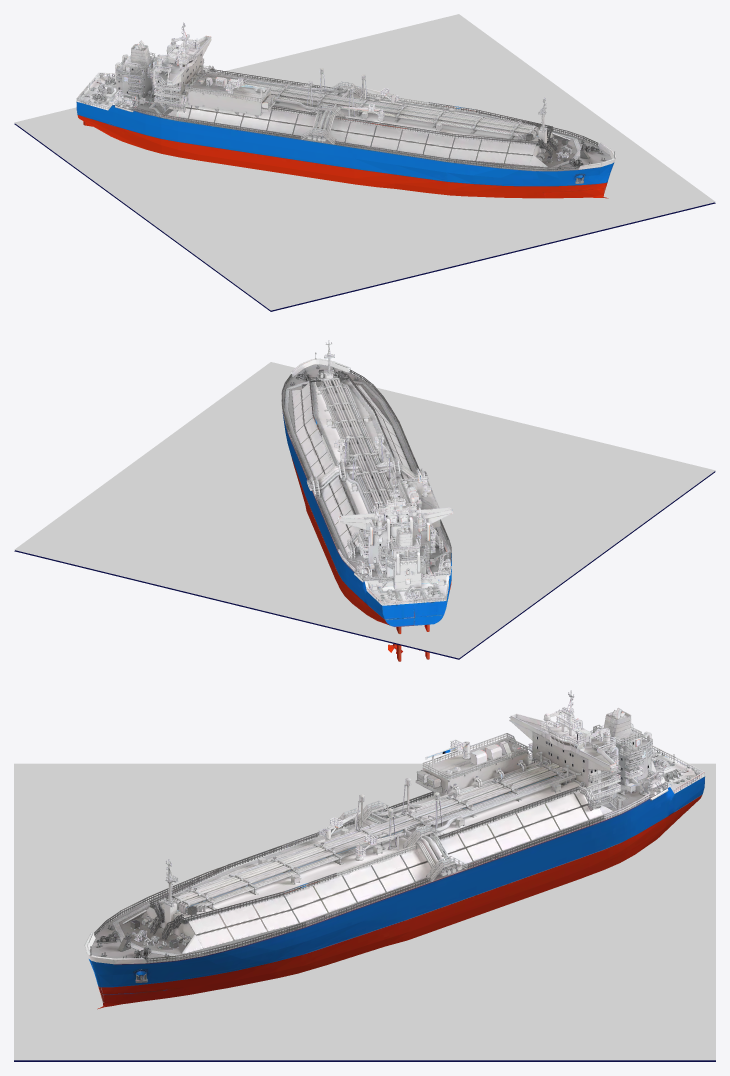
The model's file is ship-ocean-wake.glb.
3 renders of one model, top to bottom at view 1: azimuth 30°, elevation 25°; view 2: azimuth 150°, elevation 25°; view 3: azimuth 270°, elevation 25°, orthographic. The views are drawn at different scales.
Visible parts, largest first — view 1: wake, carrier, ocean; view 2: wake, carrier, ocean; view 3: wake, carrier, ocean.
Boxes of the visible parts, x1=… form: wake: x1=14, y1=14, x2=715, y2=310; carrier: x1=76, y1=22, x2=616, y2=198; ocean: x1=14, y1=123, x2=715, y2=311; wake: x1=14, y1=362, x2=715, y2=658; carrier: x1=281, y1=340, x2=453, y2=661; ocean: x1=14, y1=471, x2=715, y2=659; wake: x1=14, y1=763, x2=715, y2=1060; carrier: x1=84, y1=690, x2=705, y2=1009; ocean: x1=14, y1=1060, x2=715, y2=1061.
Size of the model in its own units: 25.39 by 7.59 by 25.39.
Materials: 4 (3 with a texture image).
